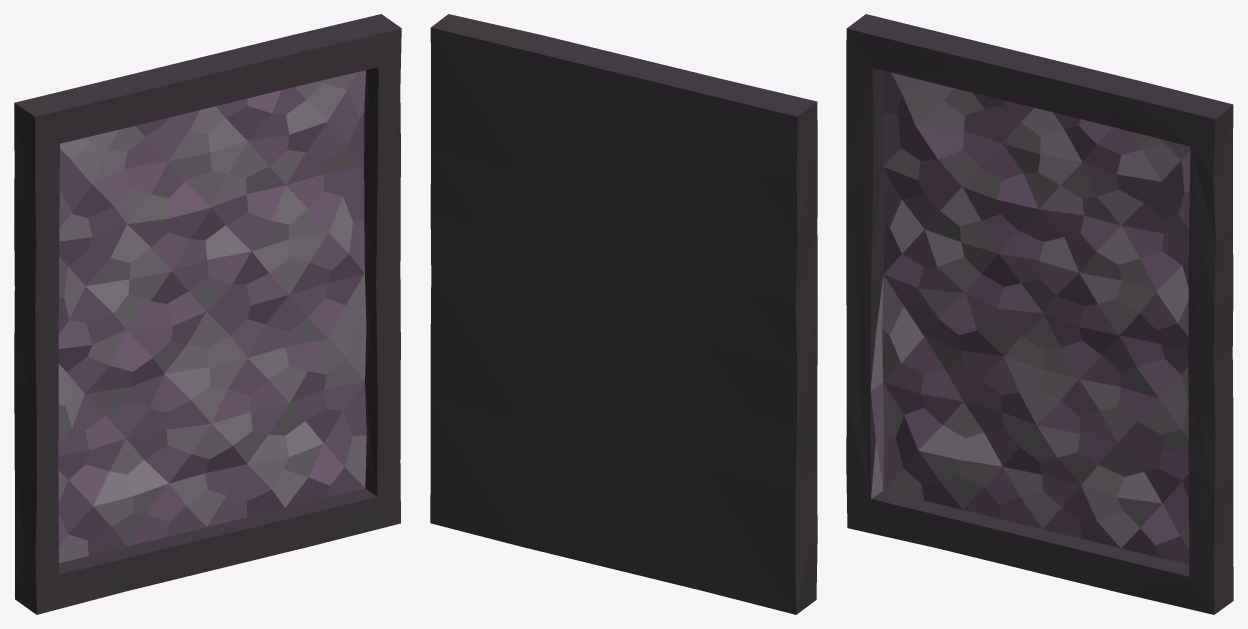
Rendered from bedroom_picture.fbx.
The picture shows the model from 3 angles, left to right: view 1: azimuth 30°, elevation 25°; view 2: azimuth 150°, elevation 25°; view 3: azimuth 330°, elevation 25°; orthographic projection.
Parts seen in each view (by area): view 1: bedroom_picture; view 2: bedroom_picture; view 3: bedroom_picture.
Part boxes in pixels (x1,y1,x2,y2): bedroom_picture: [14, 14, 401, 614]; bedroom_picture: [430, 14, 817, 614]; bedroom_picture: [846, 14, 1233, 614].
Bounding box in the file's own units: 53.16 × 68.68 × 5.52.
